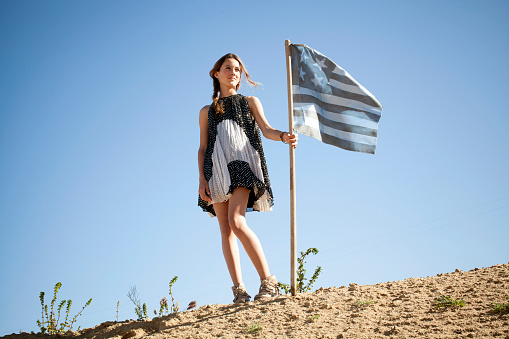em pe: (181, 32, 293, 299)
